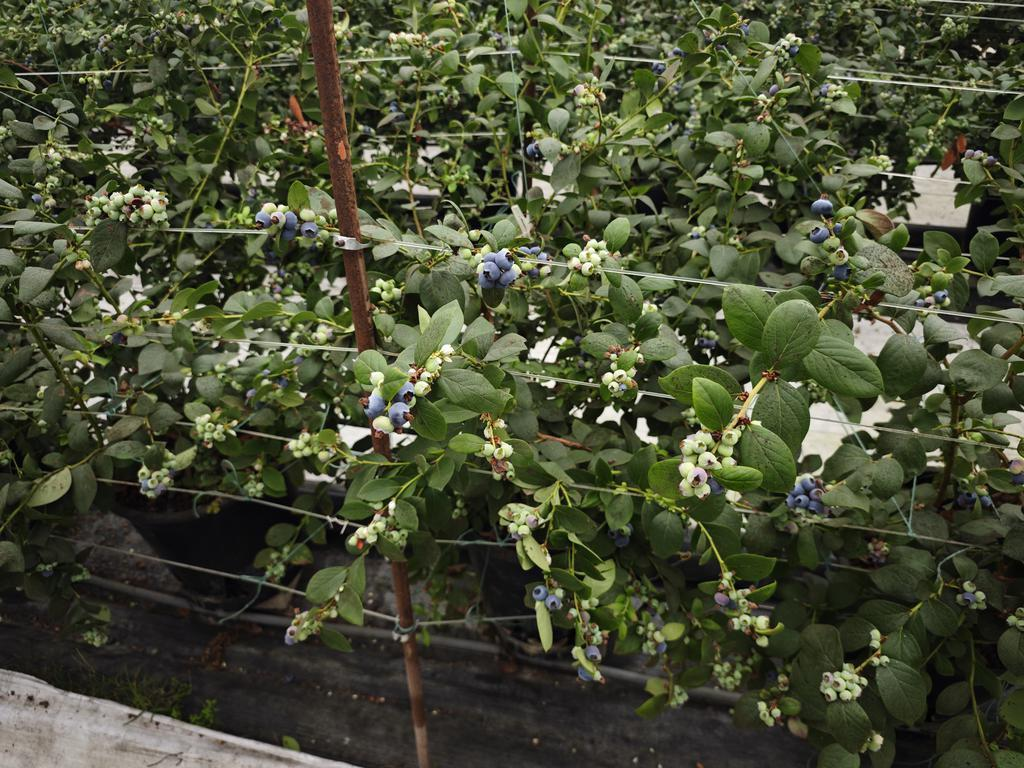RipeBlueBerry: (388, 402, 413, 428), (363, 395, 385, 418), (810, 196, 834, 215), (482, 261, 501, 283), (496, 248, 513, 270), (254, 211, 272, 230), (301, 222, 319, 238)
UnripeBlueBerry: (371, 416, 394, 439), (687, 468, 708, 488)
